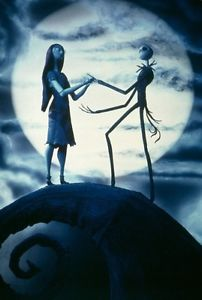Jack Skellington: (79, 43, 163, 205)
